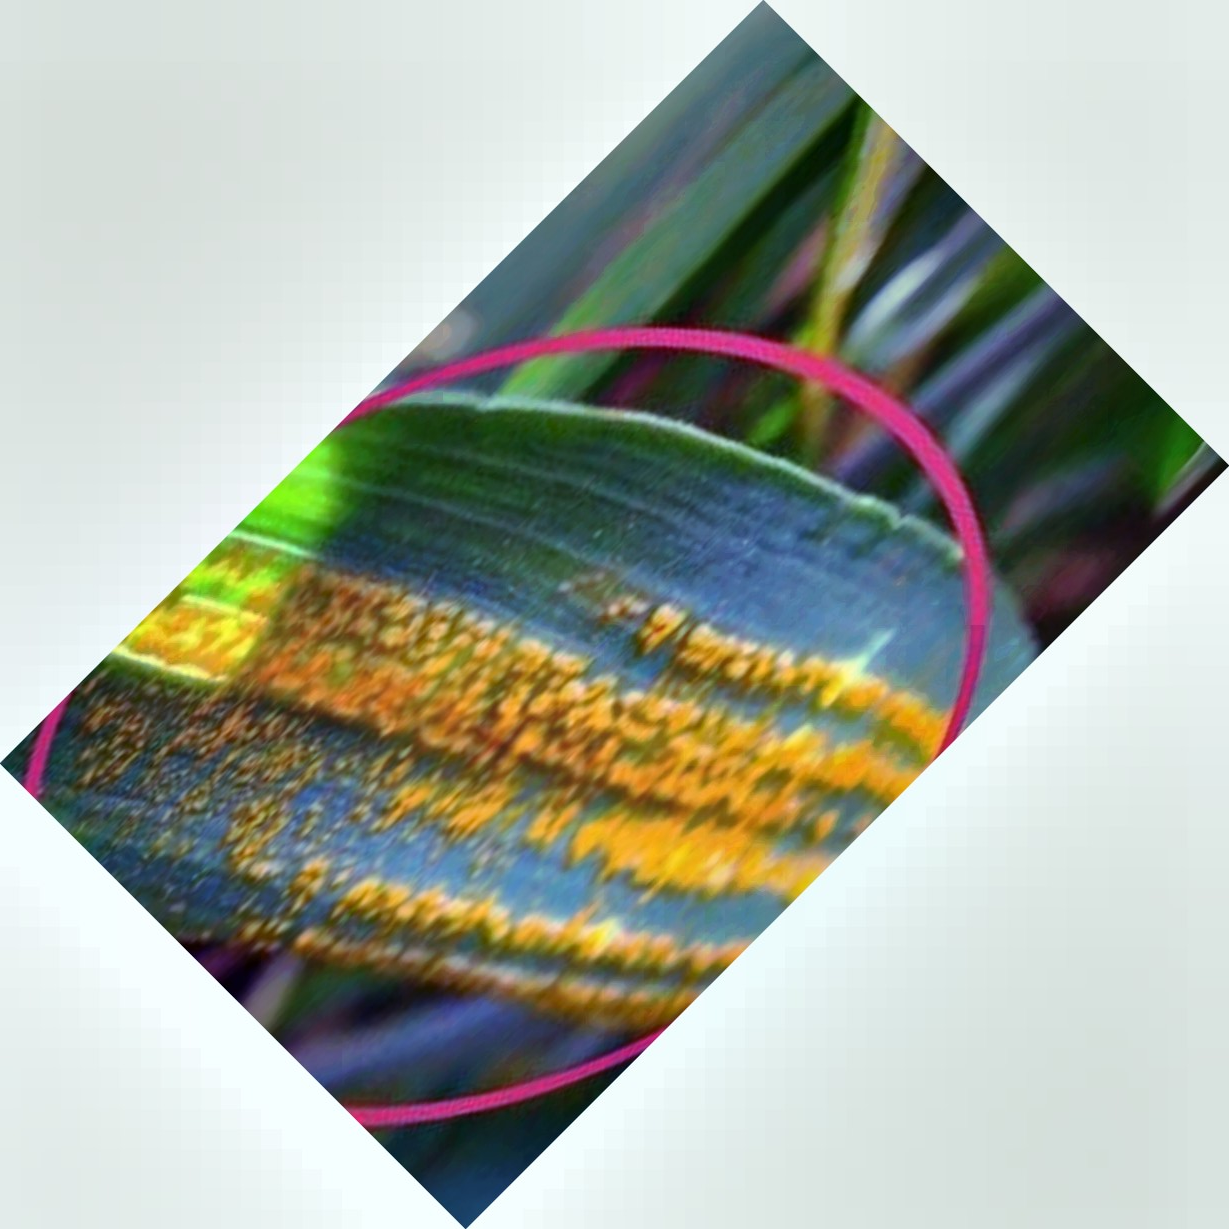Leaf Rust: (119, 564, 896, 993)
